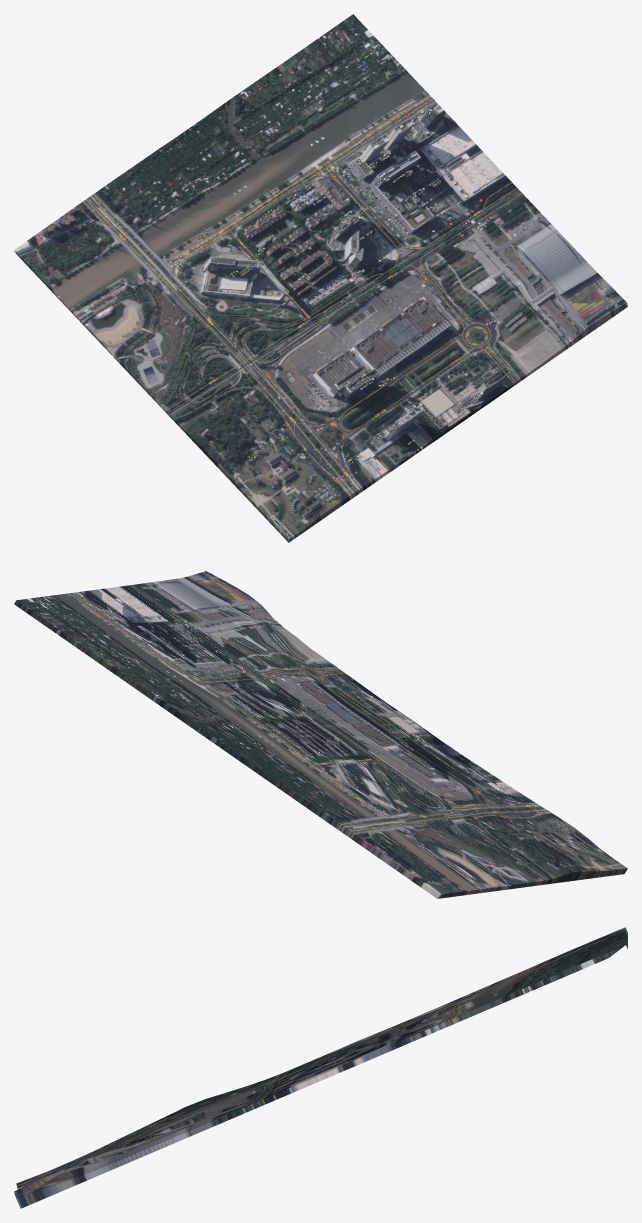
3 views of the same model, one above another, from view 1: azimuth 30°, elevation 25°; view 2: azimuth 150°, elevation 25°; view 3: azimuth 270°, elevation 25° (orthographic). The views are drawn at different scales.
Visible parts, largest first — view 1: 1_7_15; view 2: 1_7_15; view 3: 1_7_15.
Boxes of the visible parts, box(x1,y1,x2,y2) form: 1_7_15: box(14, 14, 627, 542); 1_7_15: box(14, 571, 627, 898); 1_7_15: box(14, 927, 627, 1208).
Size of the model in its own units: 1227 by 893 by 1131.
1 material, 1 textured.
